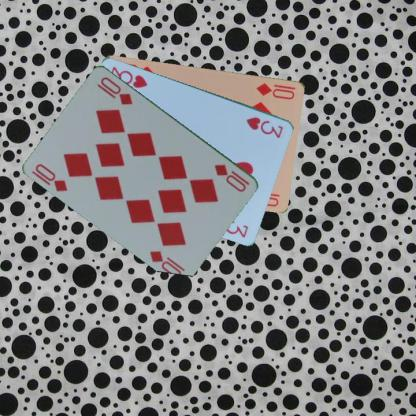10d: (212, 161, 251, 194), (33, 161, 69, 193), (254, 80, 296, 100)
3h: (244, 114, 285, 139)
